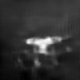plane: (24, 35, 64, 56)
